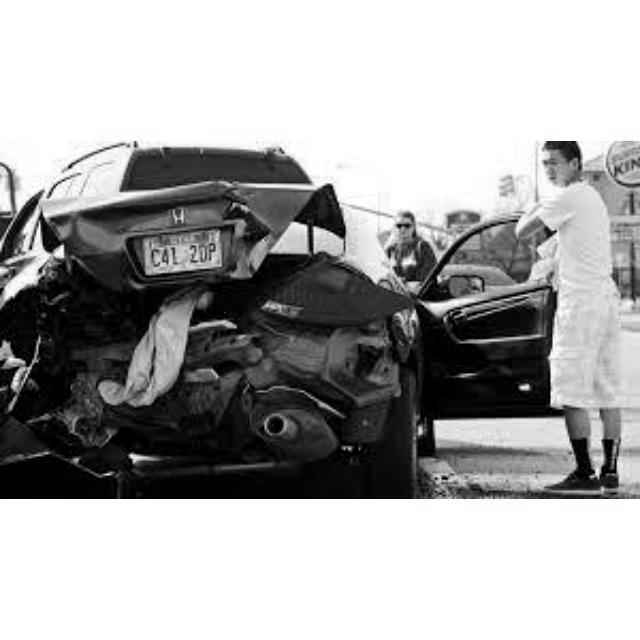bonnet-dent: (52, 188, 290, 318)
rear-bumper-dent: (48, 342, 265, 448)
